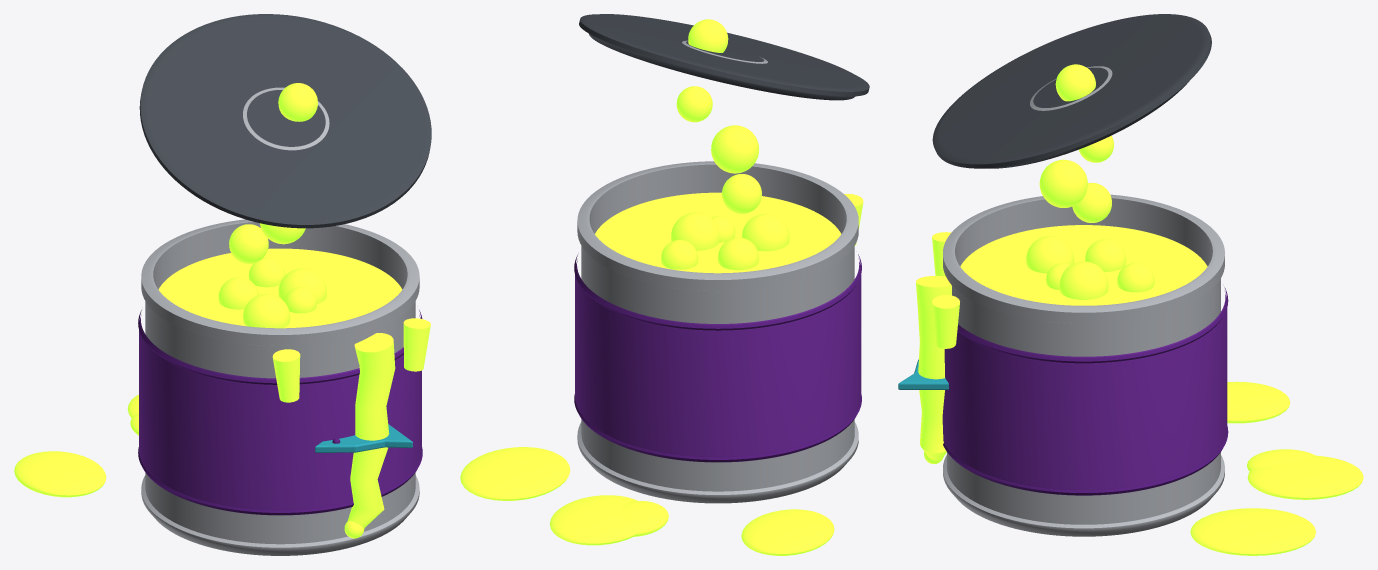
Rendered from zc_toxic_can.glb.
3 renders of one model, left to right at view 1: azimuth 30°, elevation 25°; view 2: azimuth 150°, elevation 25°; view 3: azimuth 270°, elevation 25°, orthographic.
Visible parts, largest first — view 1: zc_toxic_can, zc_toxic_lid, zc_toxic_goo; view 2: zc_toxic_can, zc_toxic_goo, zc_toxic_lid; view 3: zc_toxic_can, zc_toxic_goo, zc_toxic_lid.
Boxes of the visible parts, x1=… form: zc_toxic_can: x1=138, y1=219, x2=422, y2=555; zc_toxic_lid: x1=139, y1=14, x2=431, y2=228; zc_toxic_goo: x1=14, y1=83, x2=430, y2=538; zc_toxic_can: x1=574, y1=161, x2=861, y2=503; zc_toxic_goo: x1=460, y1=19, x2=863, y2=555; zc_toxic_lid: x1=579, y1=14, x2=869, y2=100; zc_toxic_can: x1=898, y1=194, x2=1228, y2=536; zc_toxic_goo: x1=916, y1=64, x2=1363, y2=555; zc_toxic_lid: x1=932, y1=14, x2=1211, y2=168.
Size of the model in its own units: 1 by 1.21 by 1.15.
1 material, 1 textured.
